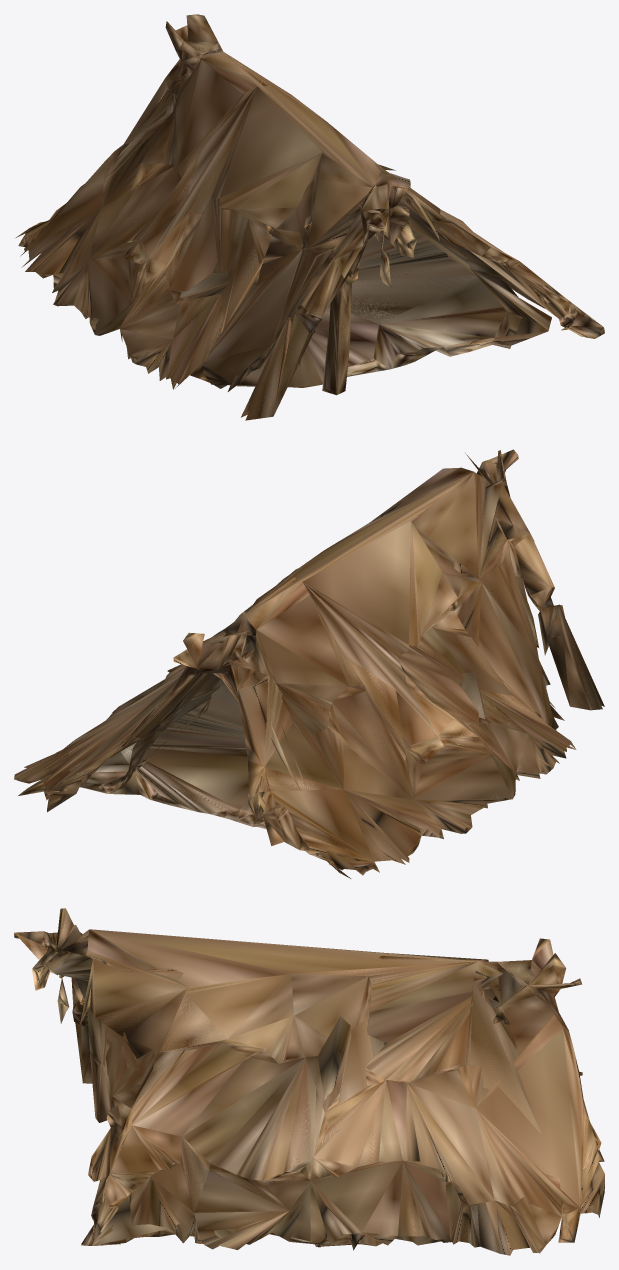
File: fellunterstand.glb
The picture shows the model from 3 angles, top to bottom: view 1: azimuth 30°, elevation 25°; view 2: azimuth 150°, elevation 25°; view 3: azimuth 270°, elevation 25°; orthographic projection. The views are drawn at different scales.
Size of the model in its own units: 1.51 by 0.7896 by 1.89.
1 material, 1 textured.
